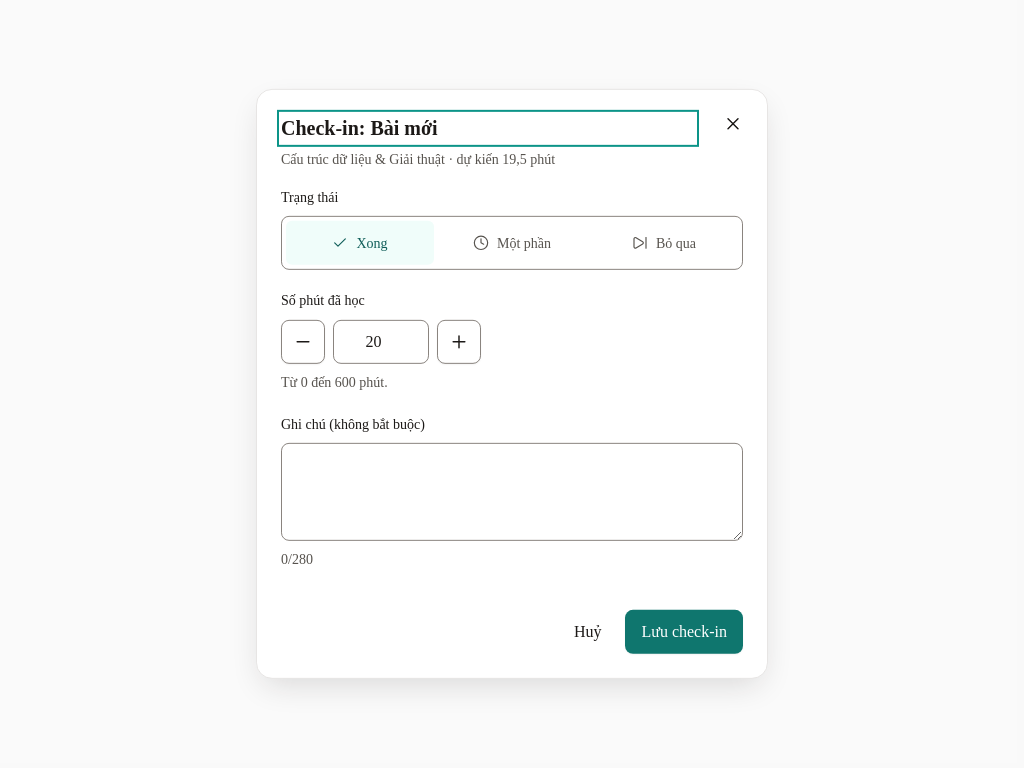
Test case: CheckInSheet (DESIGN_SYSTEM §9, §10) › steps from a typed number outside 0–600, clamped first (601 − 5 = 595)
The width and height of the screenshot is (1024, 768).
Replace the text in the number field labelled "Số phút đã học" with "601". click: (381, 342)
box: [333,320,429,364]
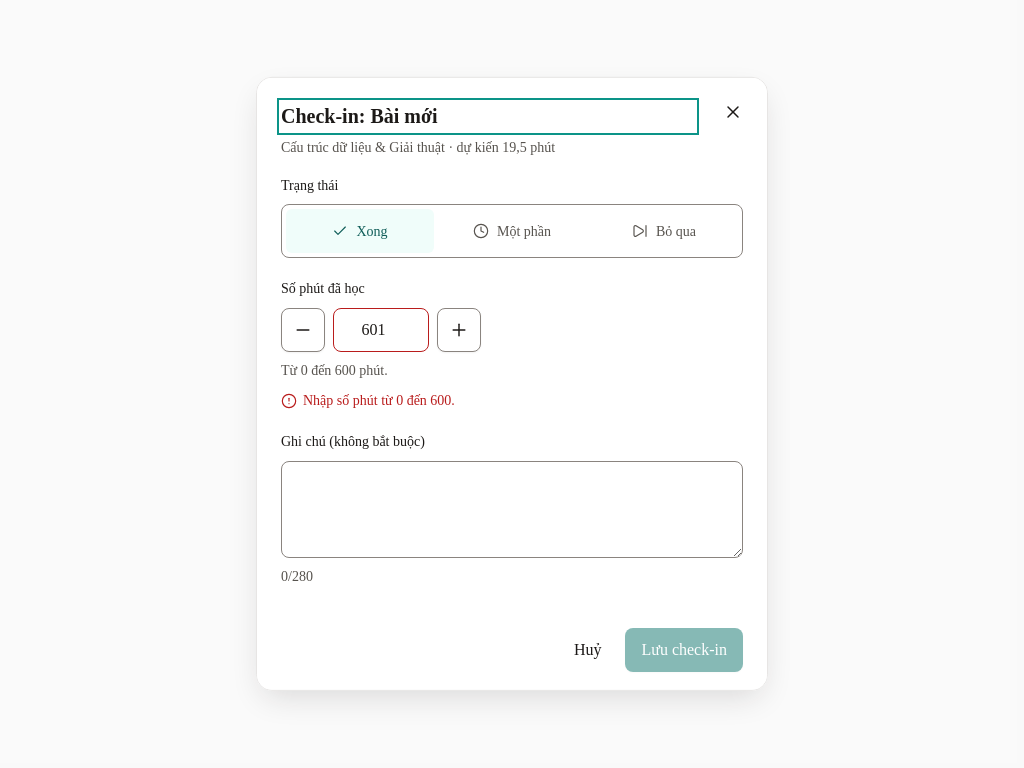
Click the button named "Bớt 5 phút". click: click(303, 330)
box: [281,308,325,352]
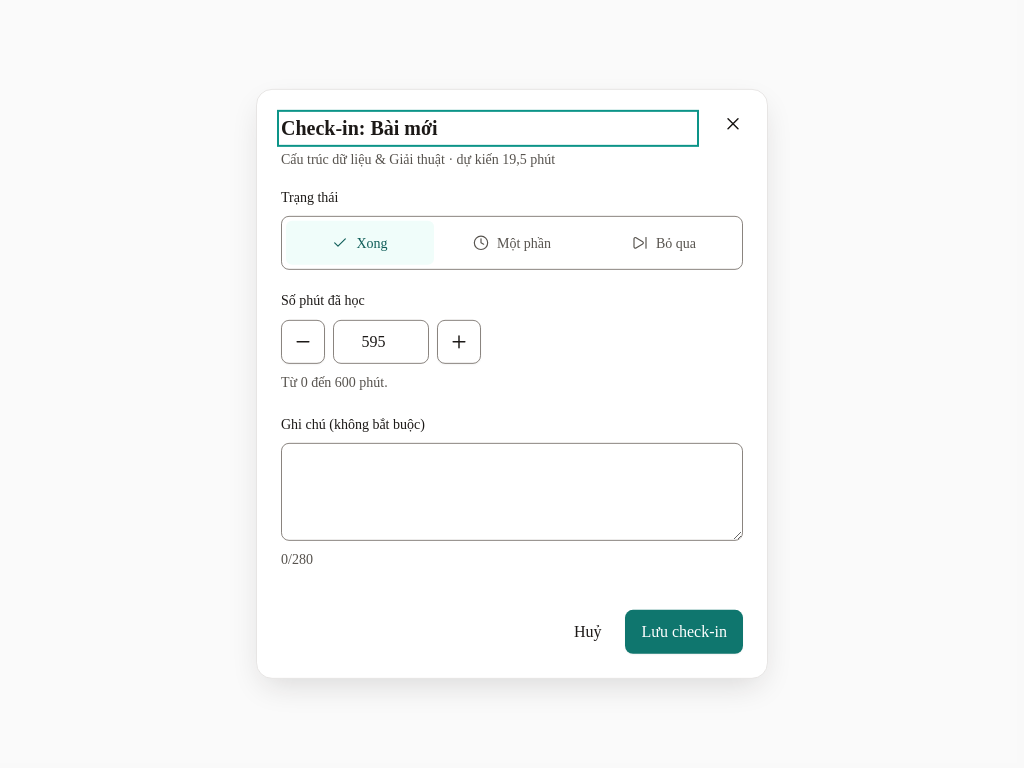
Expected: the number field labelled "Số phút đã học" holds "595"
Replace the text in the number field labelled "Số phút đã học" with "700". click: (381, 342)
box: [333,320,429,364]
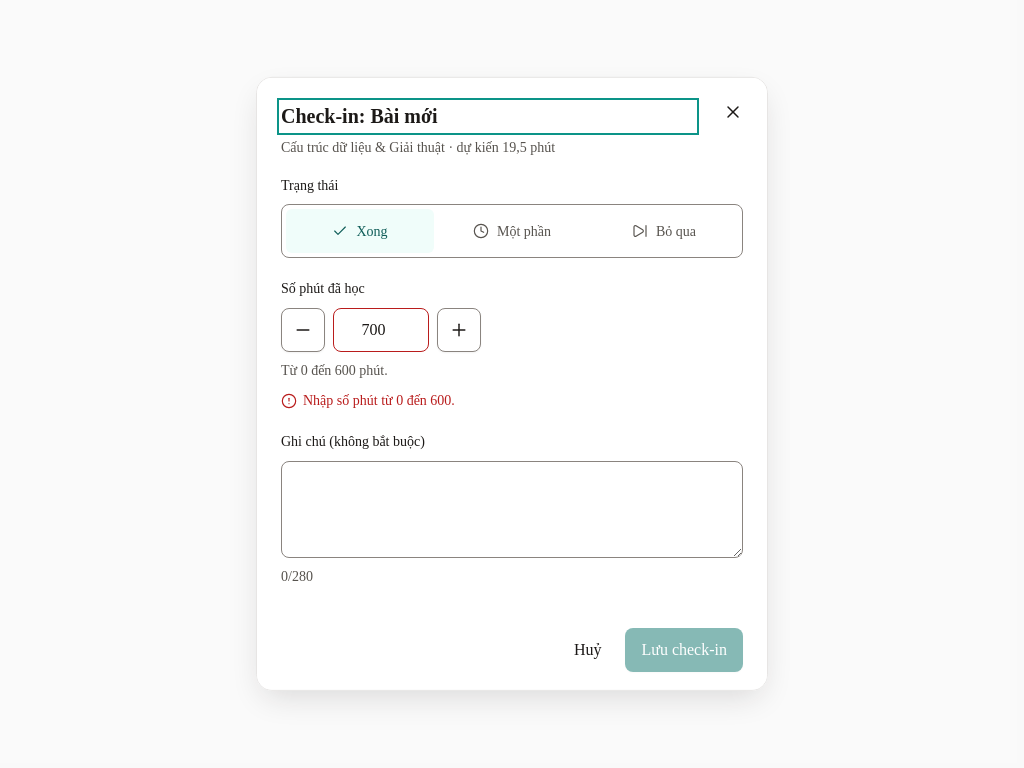
Click the button named "Thêm 5 phút". click: click(459, 330)
box: [437,308,481,352]
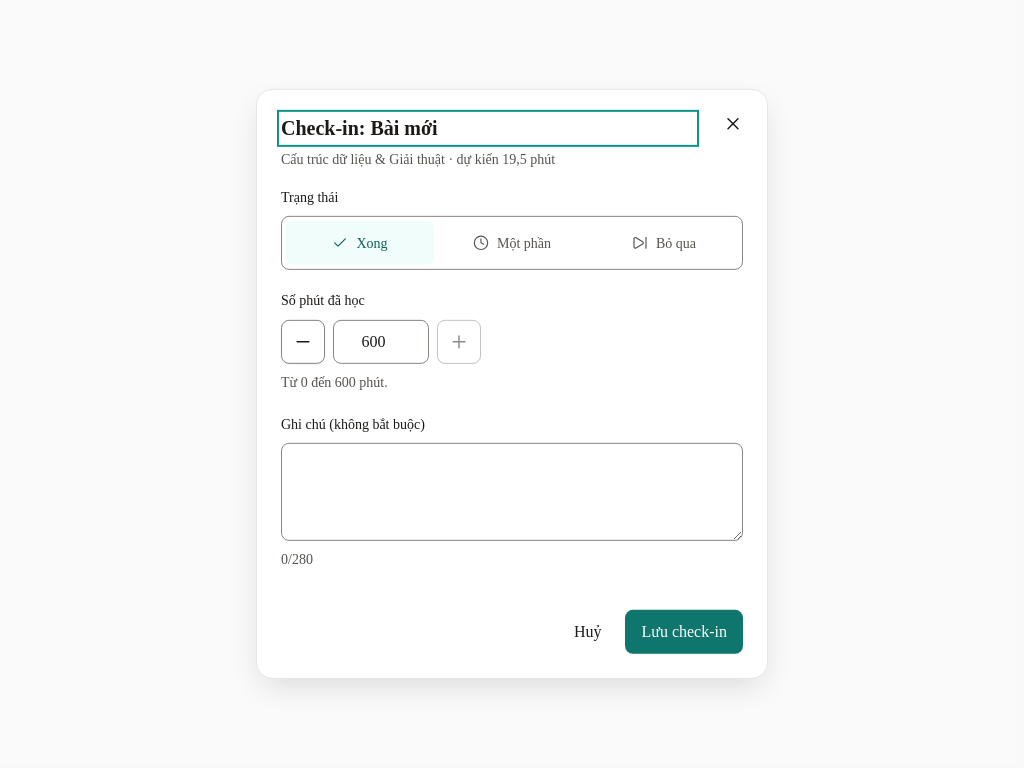
Expected: the number field labelled "Số phút đã học" holds "600", [333,320,429,364]
